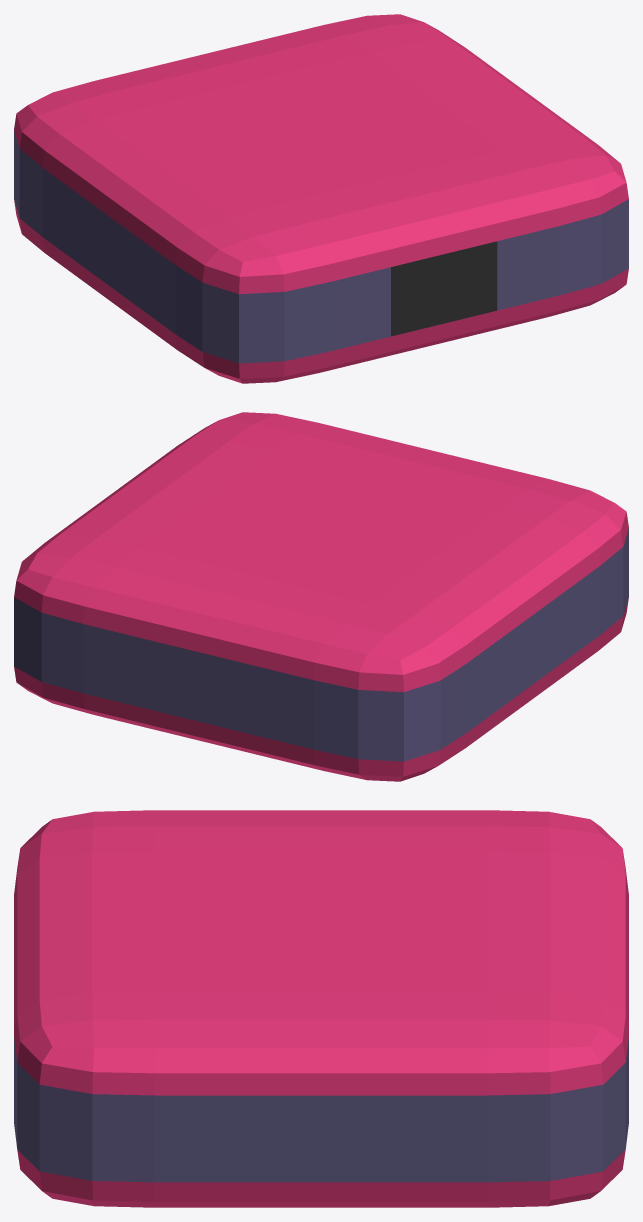
The model's file is MaoMao.fbx.
3 renders of one model, top to bottom at view 1: azimuth 30°, elevation 25°; view 2: azimuth 150°, elevation 25°; view 3: azimuth 270°, elevation 25°, orthographic. The views are drawn at different scales.
Parts seen in each view (by area): view 1: Cube; view 2: Cube; view 3: Cube.
Part boxes in pixels (x1,y1,x2,y2): Cube: (14,14,628,383); Cube: (14,412,628,781); Cube: (14,810,628,1207).
Size of the model in its own units: 200 by 62.37 by 200.
